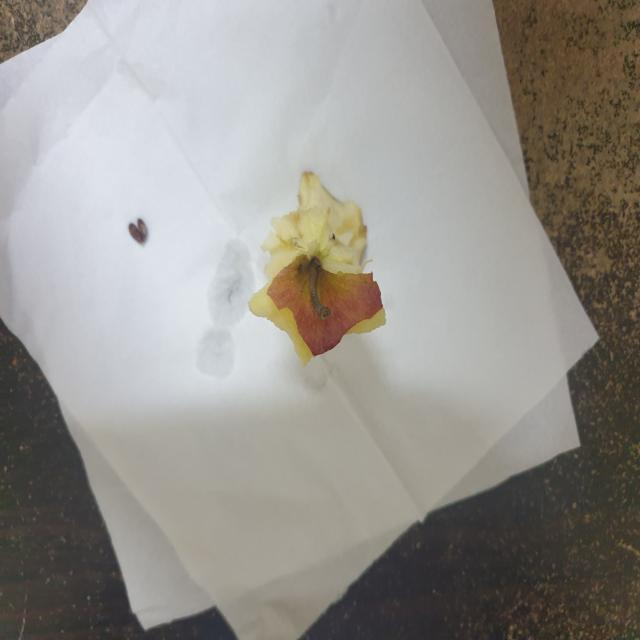apple: (242, 166, 398, 387)
